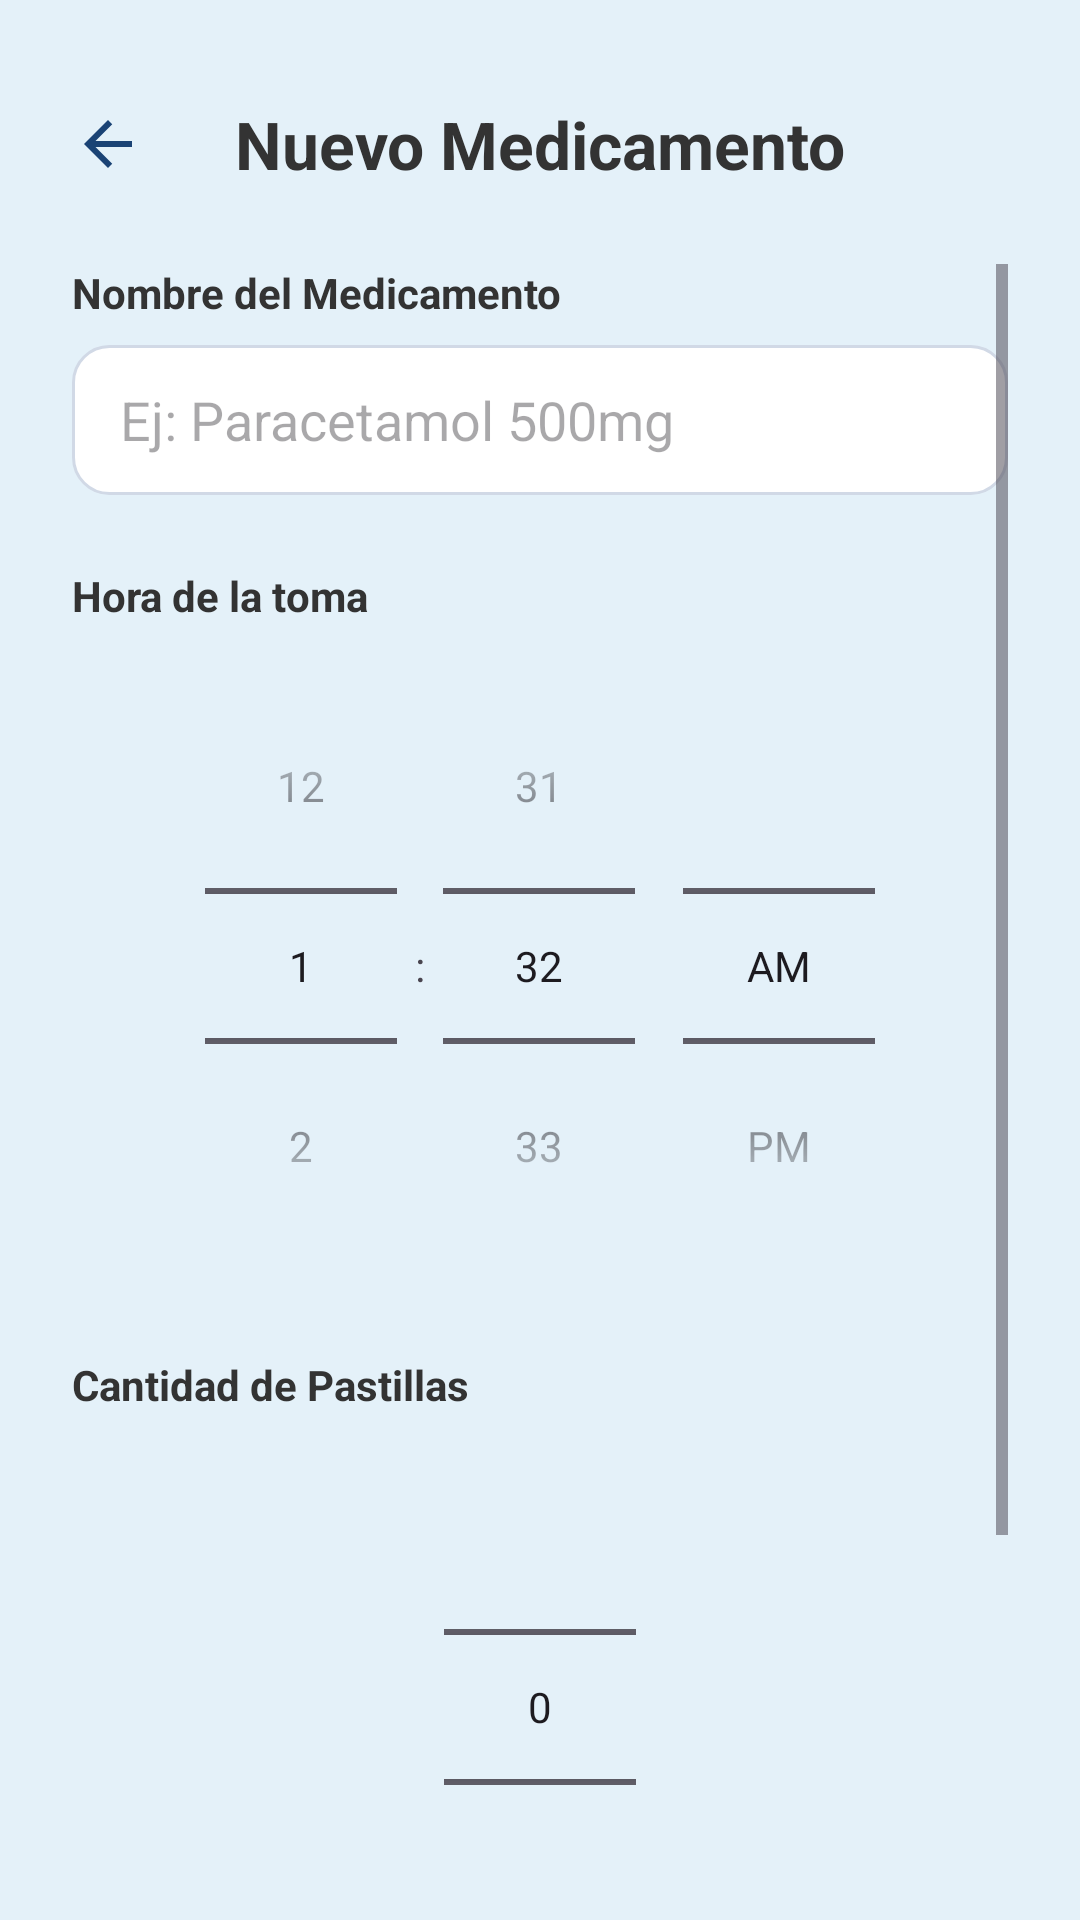

Locate icon controls on the screen. Image size 1080*1920, boxes as [x1,y1,x2,y2].
flecha regresar: [84,120,132,168]
